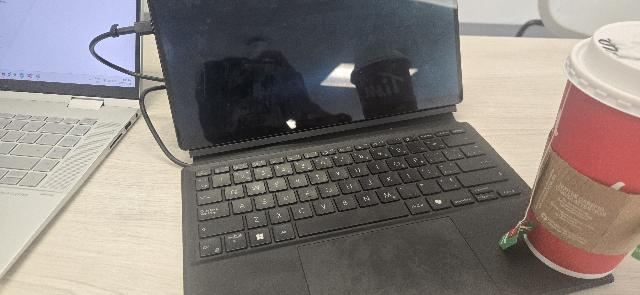Keyboard: (183, 129, 520, 258)
